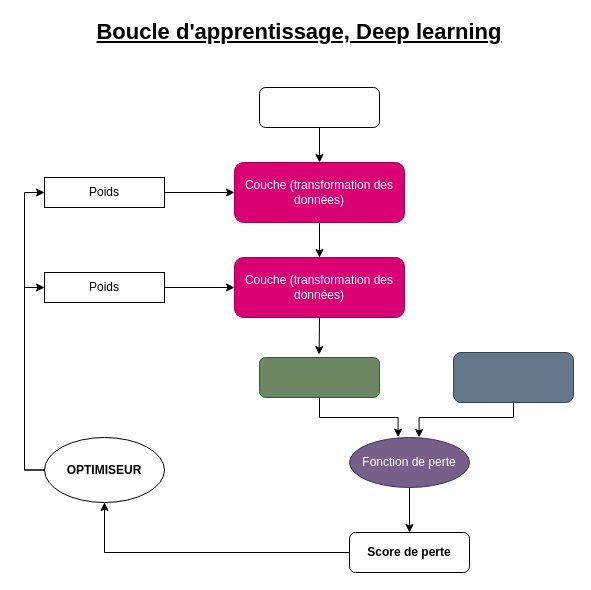
Image size: 591x590. Some labels were removed from this diagram. Here are the shapes that lost their labels. From the top down, the centre of each, then its label:
At point 319,107: "Entrée X".
At point 319,377: "Prédiction Y'".
At point 513,377: "Vraies étiquettes cibles".
